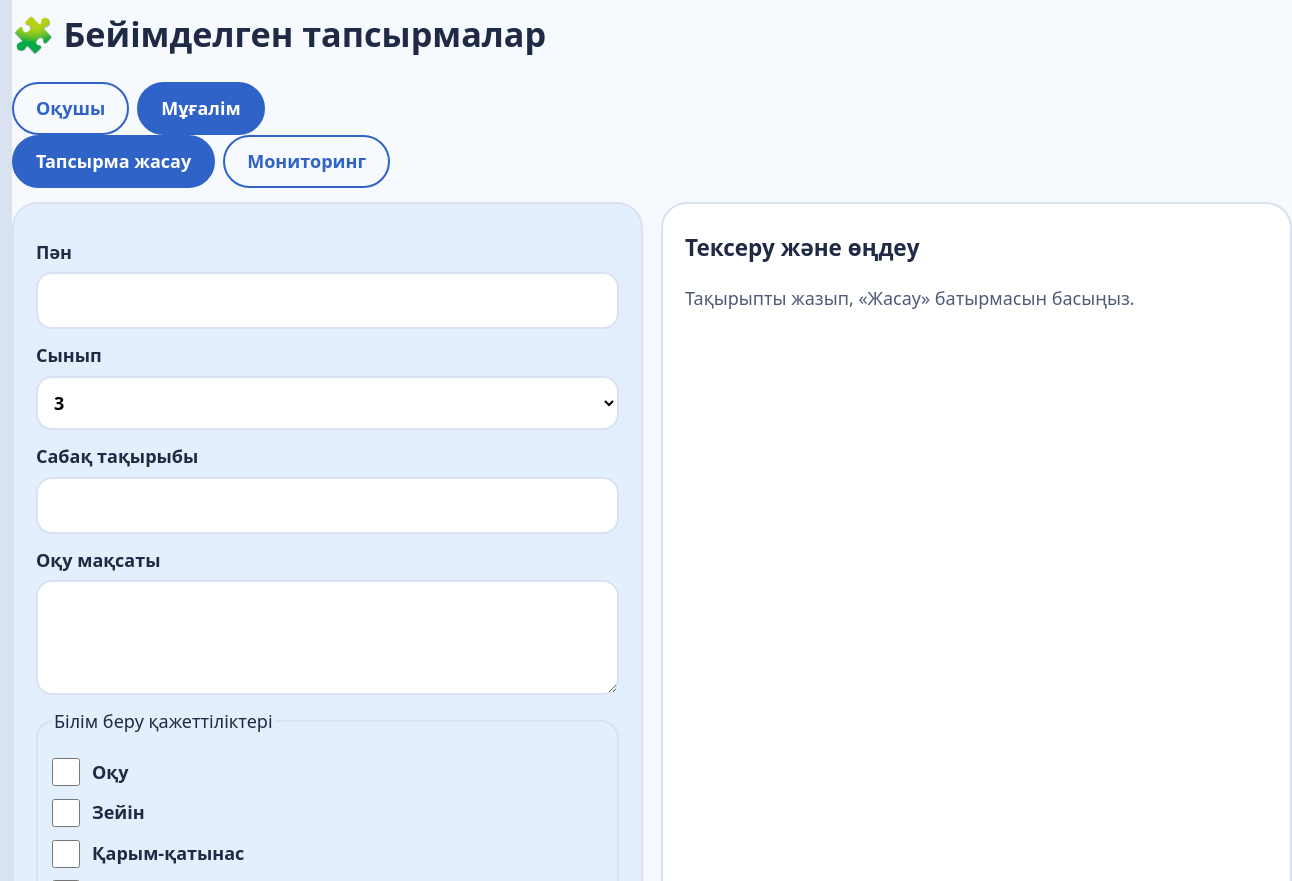
Test: teacher flow › shows error with retry when the service fails
This screenshot has width=1292, height=881.
Type "Қосу" into the field labelled "Сабақ тақырыбы" at (328, 505), box x1=36 y1=477 x2=619 y2=534
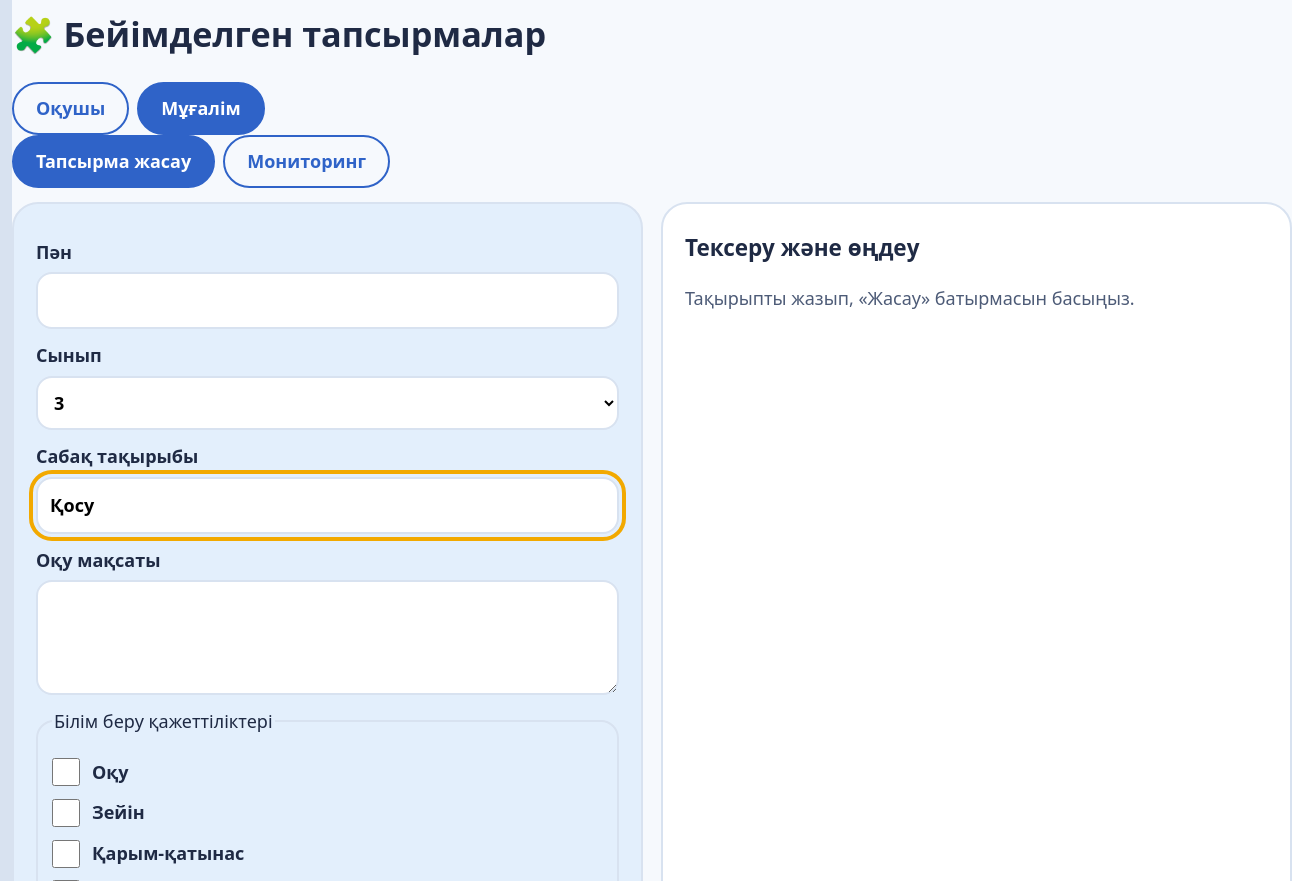
Type "Сандарды қосу" into the text box at (328, 638), box x1=36 y1=580 x2=619 y2=695
(page scrolled)
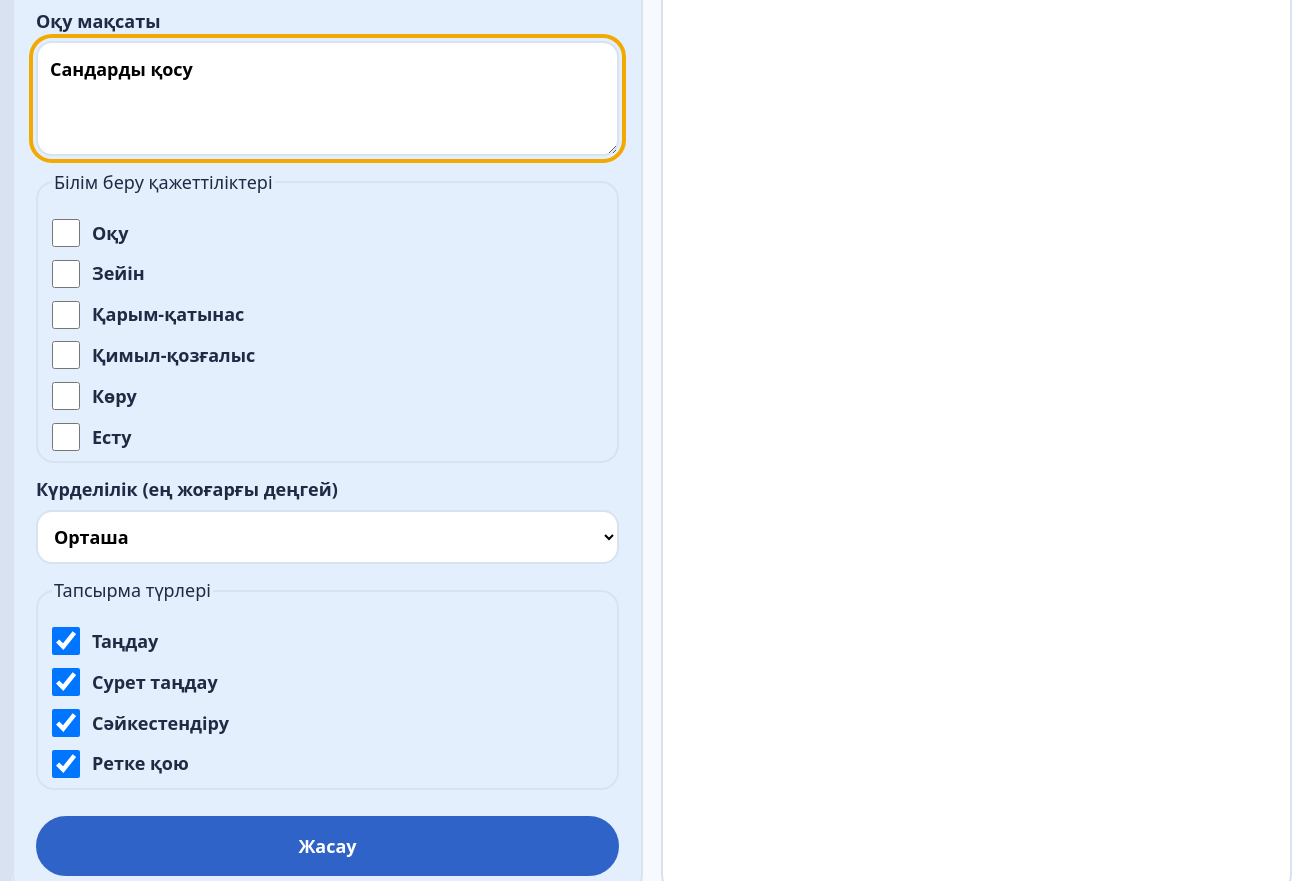
Click the button "Жасау" at (328, 846), box x1=36 y1=816 x2=619 y2=876
(page scrolled)
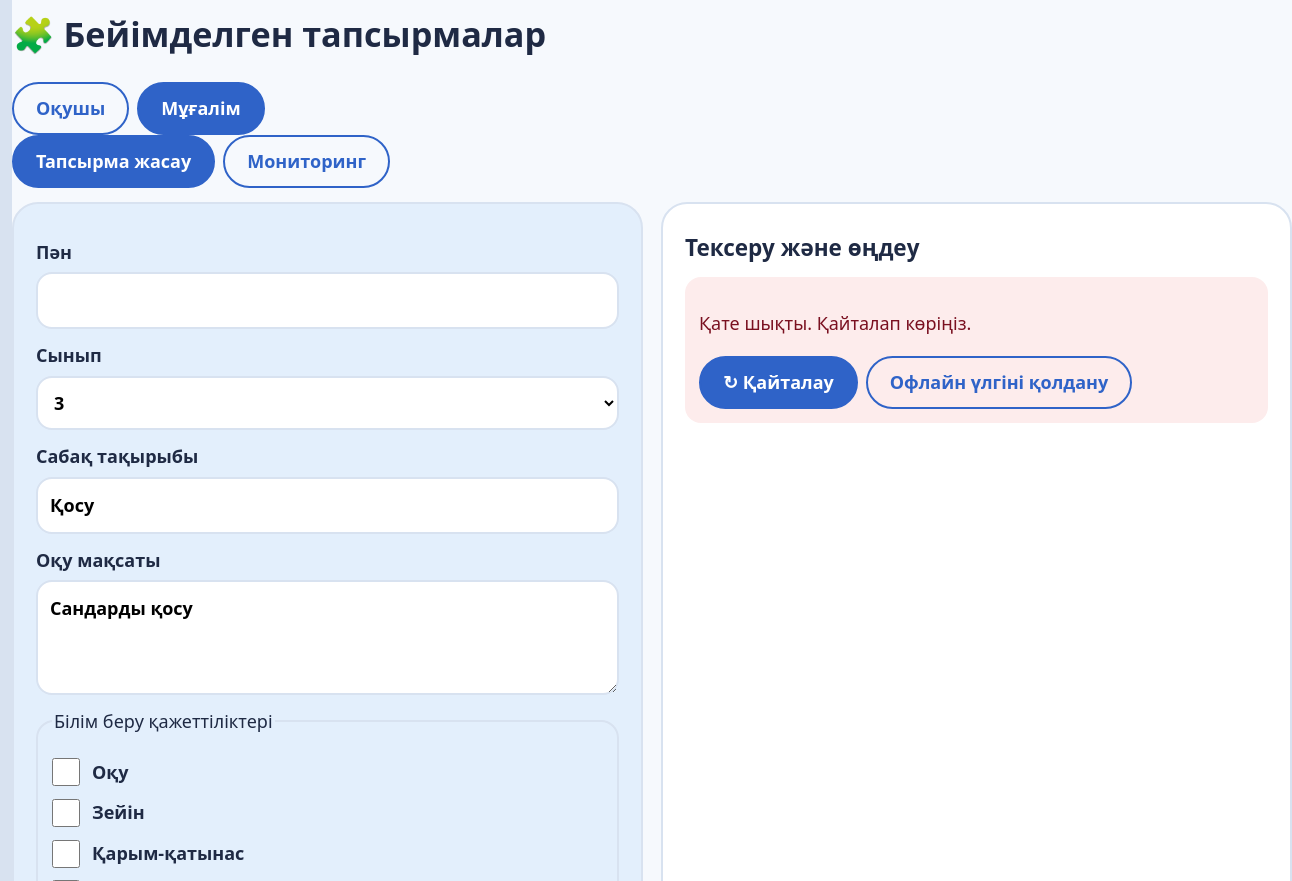
Check: the button "↻ Қайталау" is shown, box x1=699 y1=356 x2=858 y2=409
